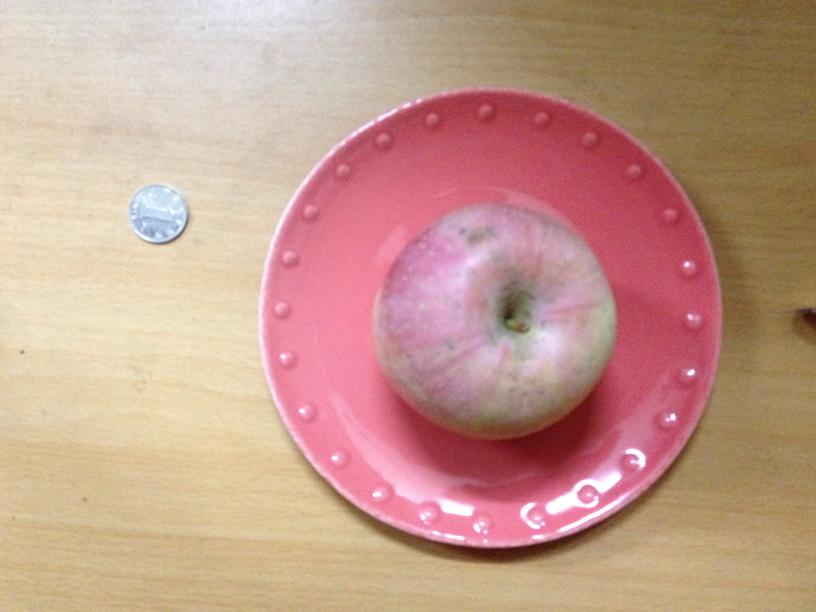apple: (368, 200, 619, 440)
coin: (129, 183, 188, 243)
